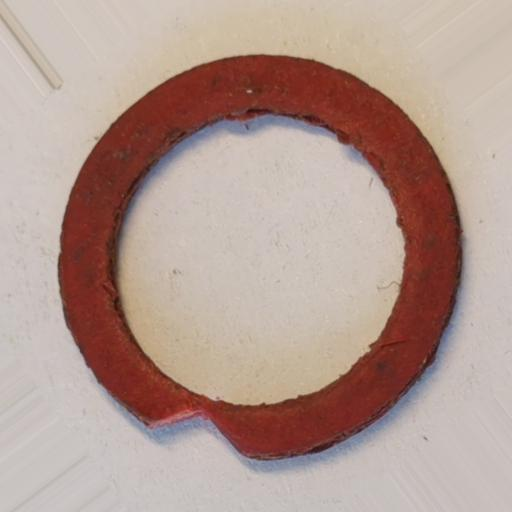defect: (146, 406, 251, 461)
